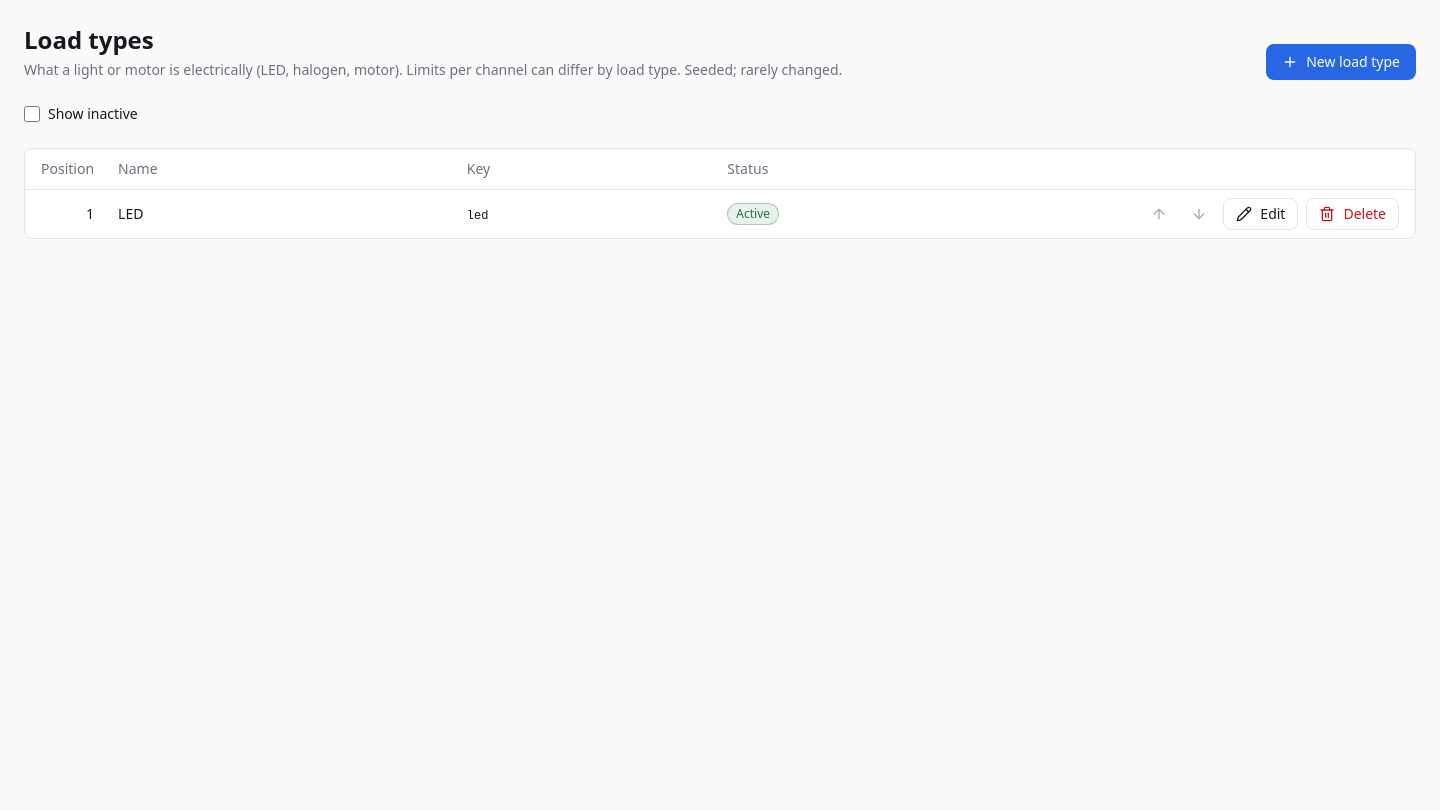
LoadTypesPage › creates a load type
This screenshot has width=1440, height=810.
Click the button "New load type" at x=1341, y=62, box [1266, 44, 1416, 80]
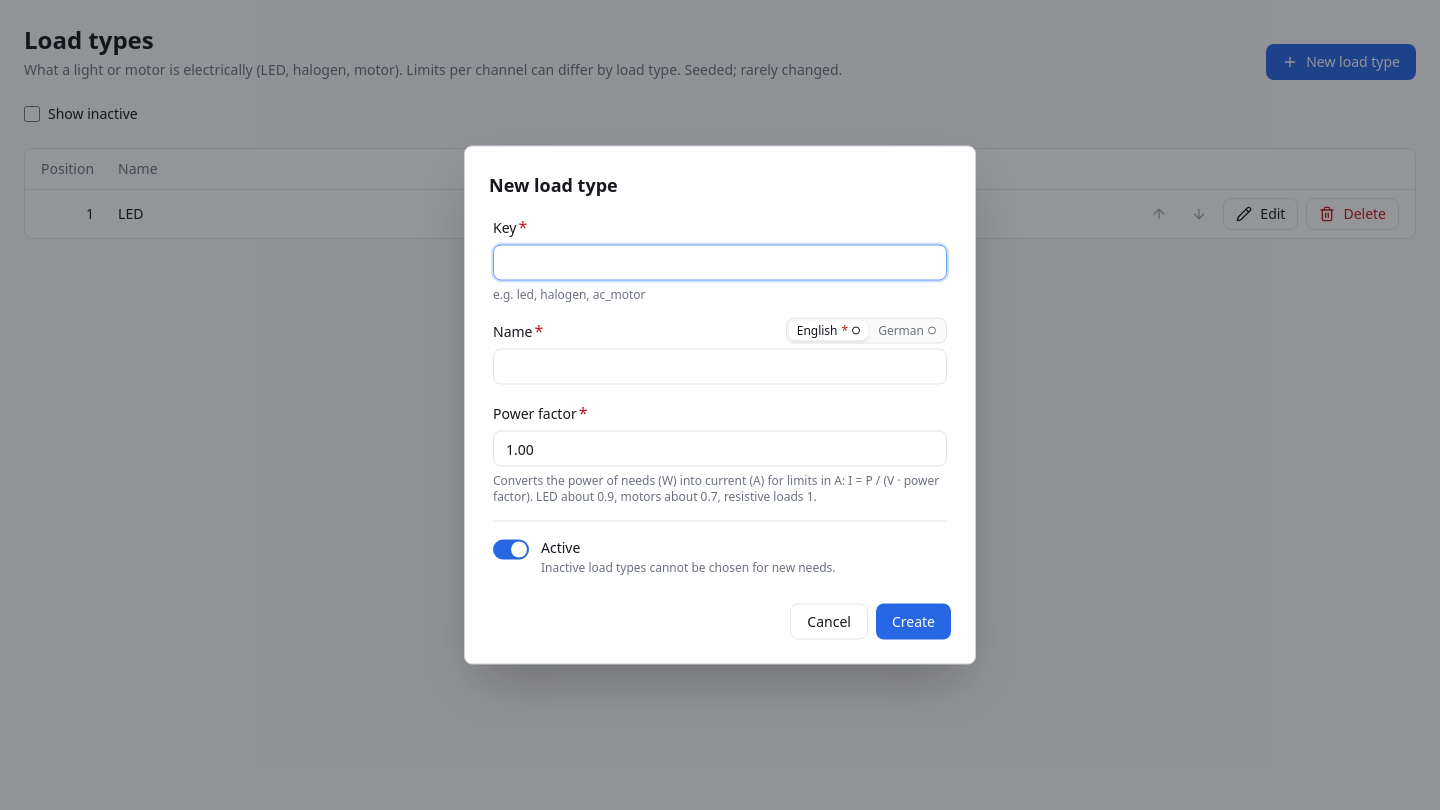
Type "motor" into the field labelled "Key" at x=720, y=262, box [493, 244, 947, 280]
Type "Motor" into the field labelled "Name" at x=720, y=366, box [493, 348, 947, 384]
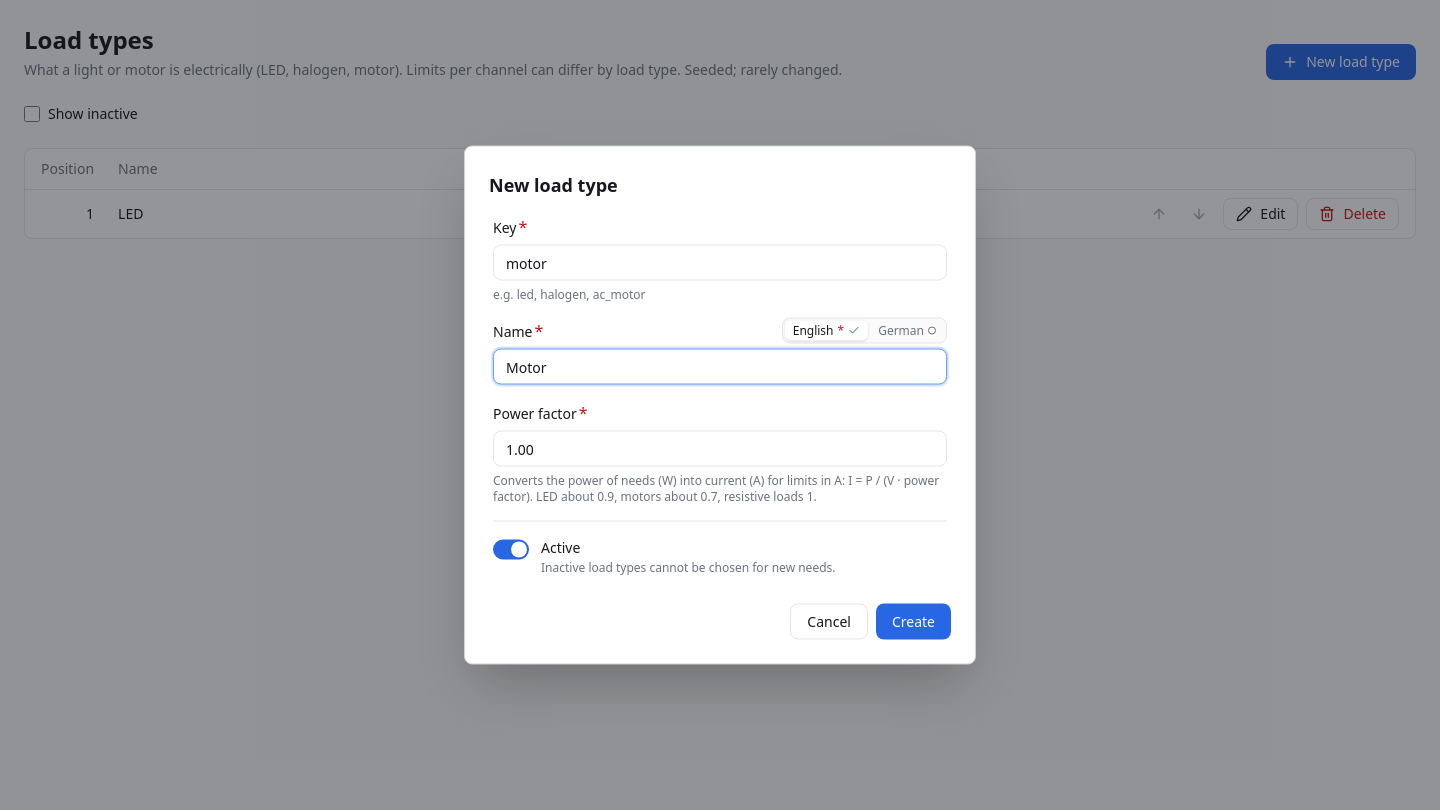
Expected: the field labelled "Power factor" holds "1.00"
Replace the text in the field labelled "Power factor" with "1.5" at x=720, y=448, box [493, 430, 947, 466]
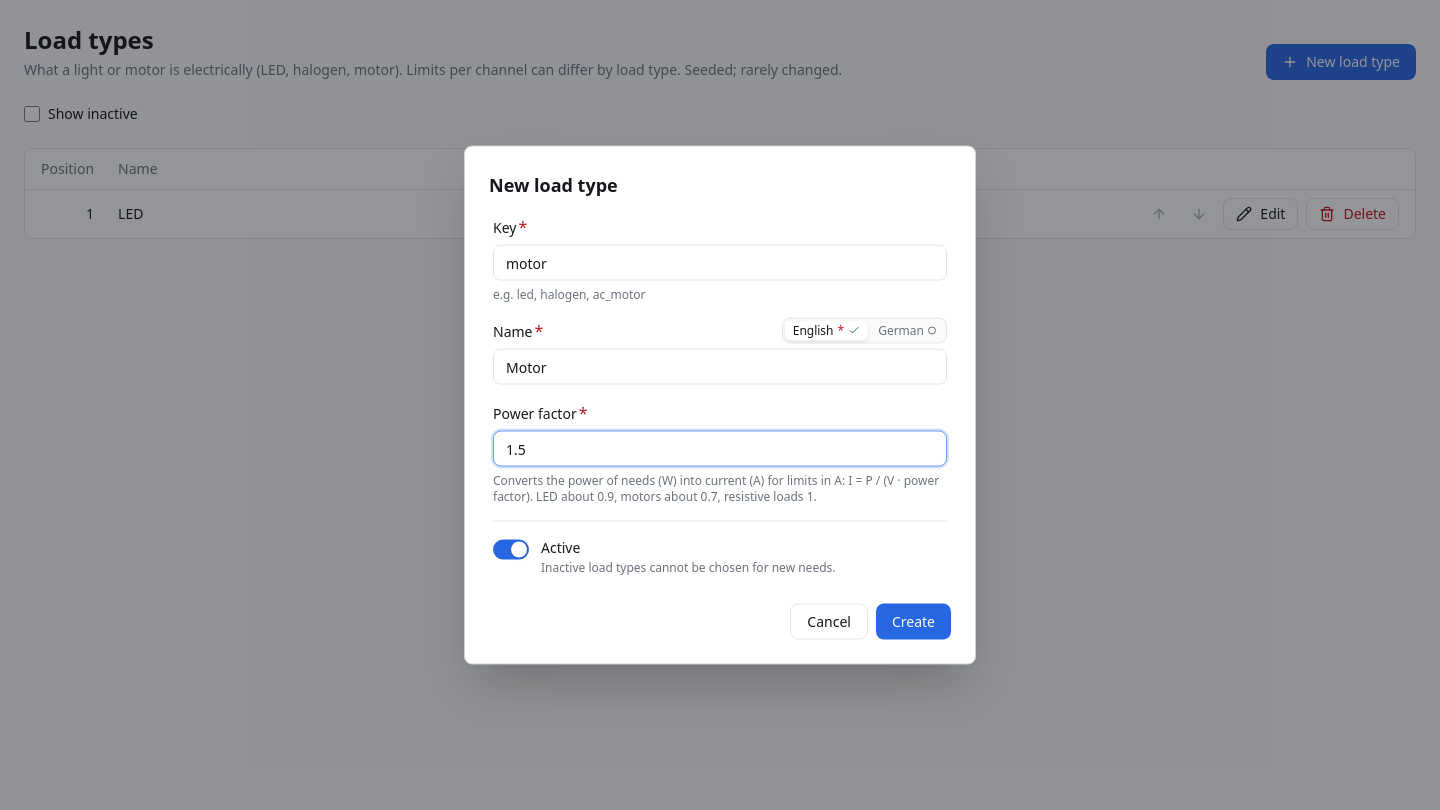
Click the button "Create" at x=913, y=622, box [876, 604, 951, 640]
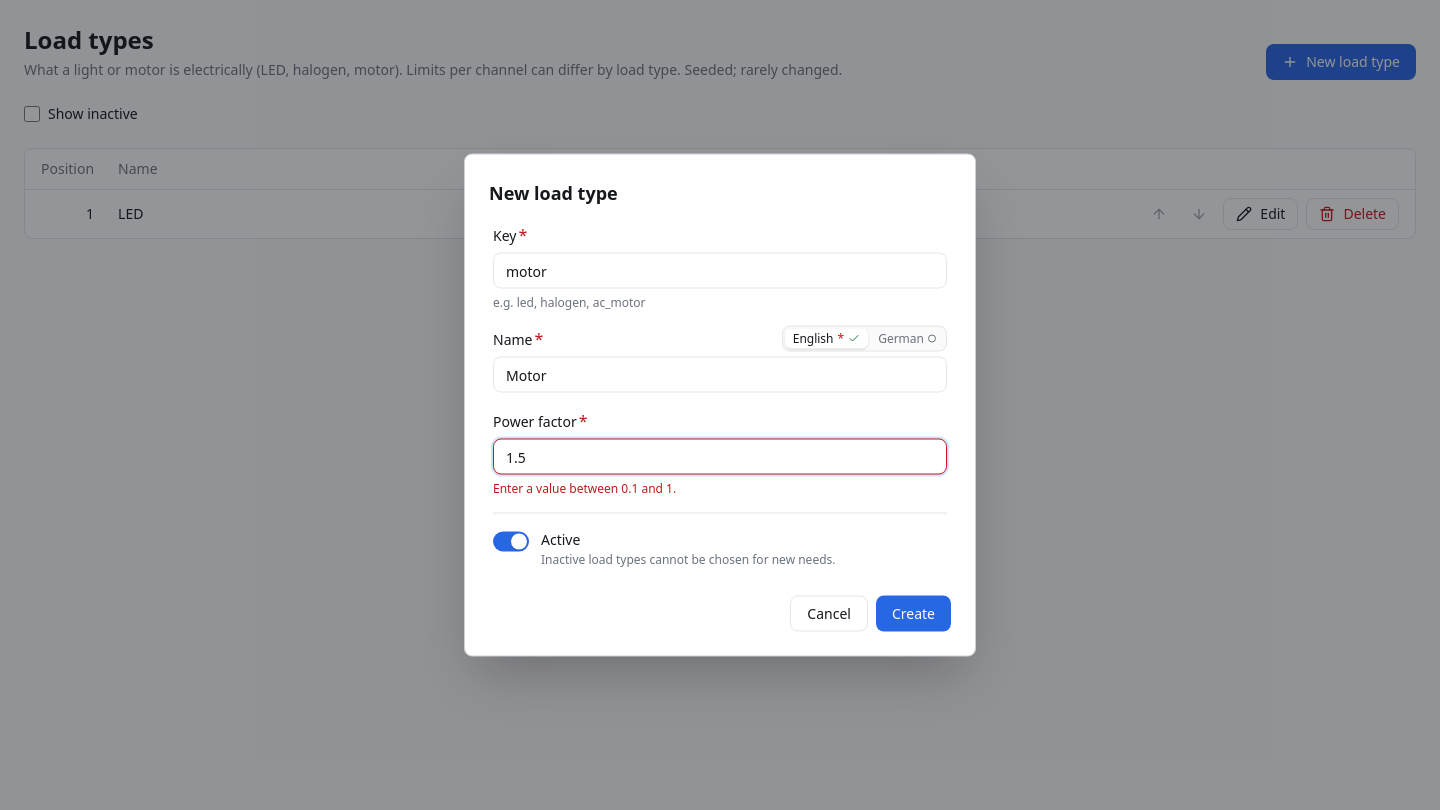
Expected: the text "Enter a value between 0.1 and 1." is shown, [493, 480, 676, 496]
Replace the text in the field labelled "Power factor" with "0,7" at x=720, y=456, box [493, 438, 947, 474]
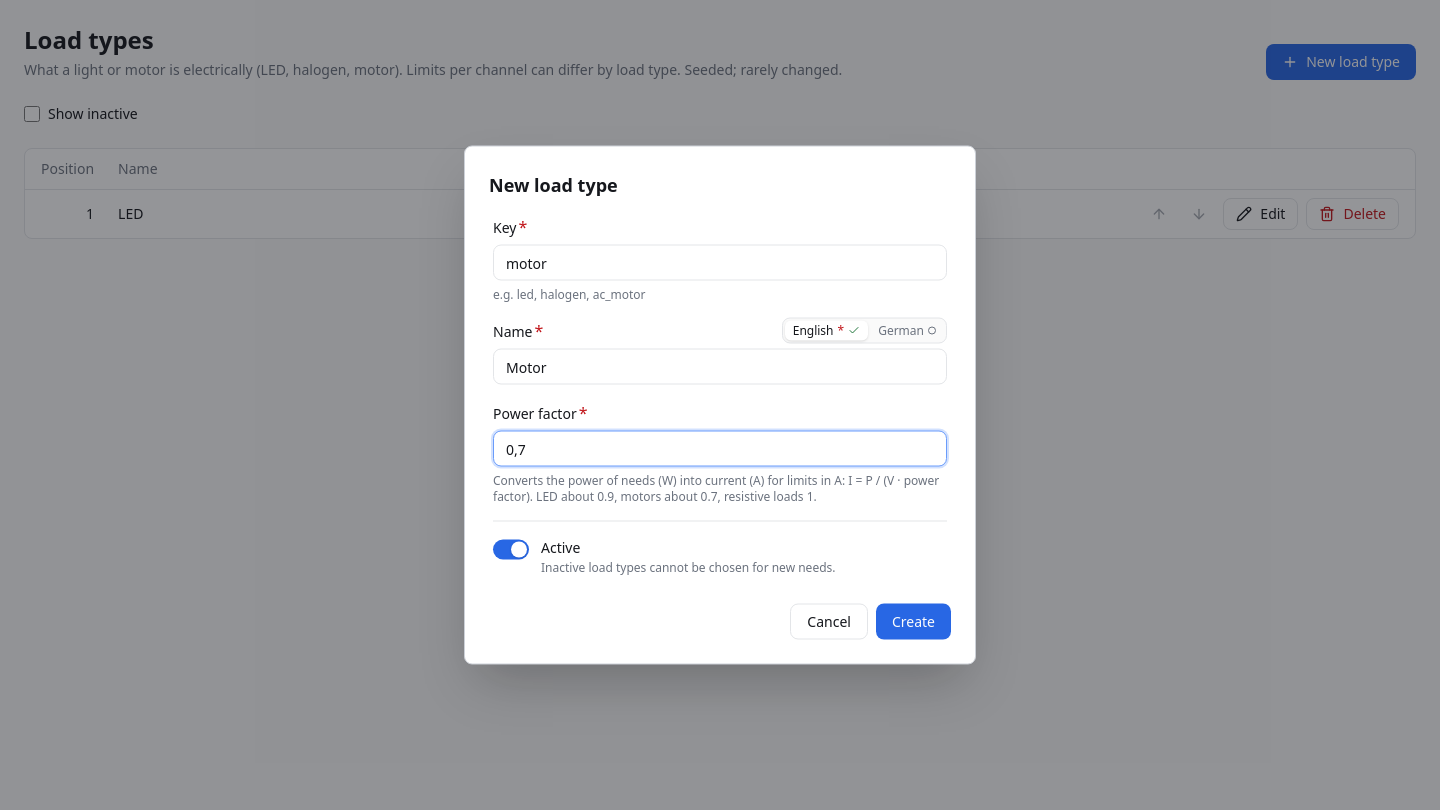
Click the button "Create" at x=913, y=622, box [876, 604, 951, 640]
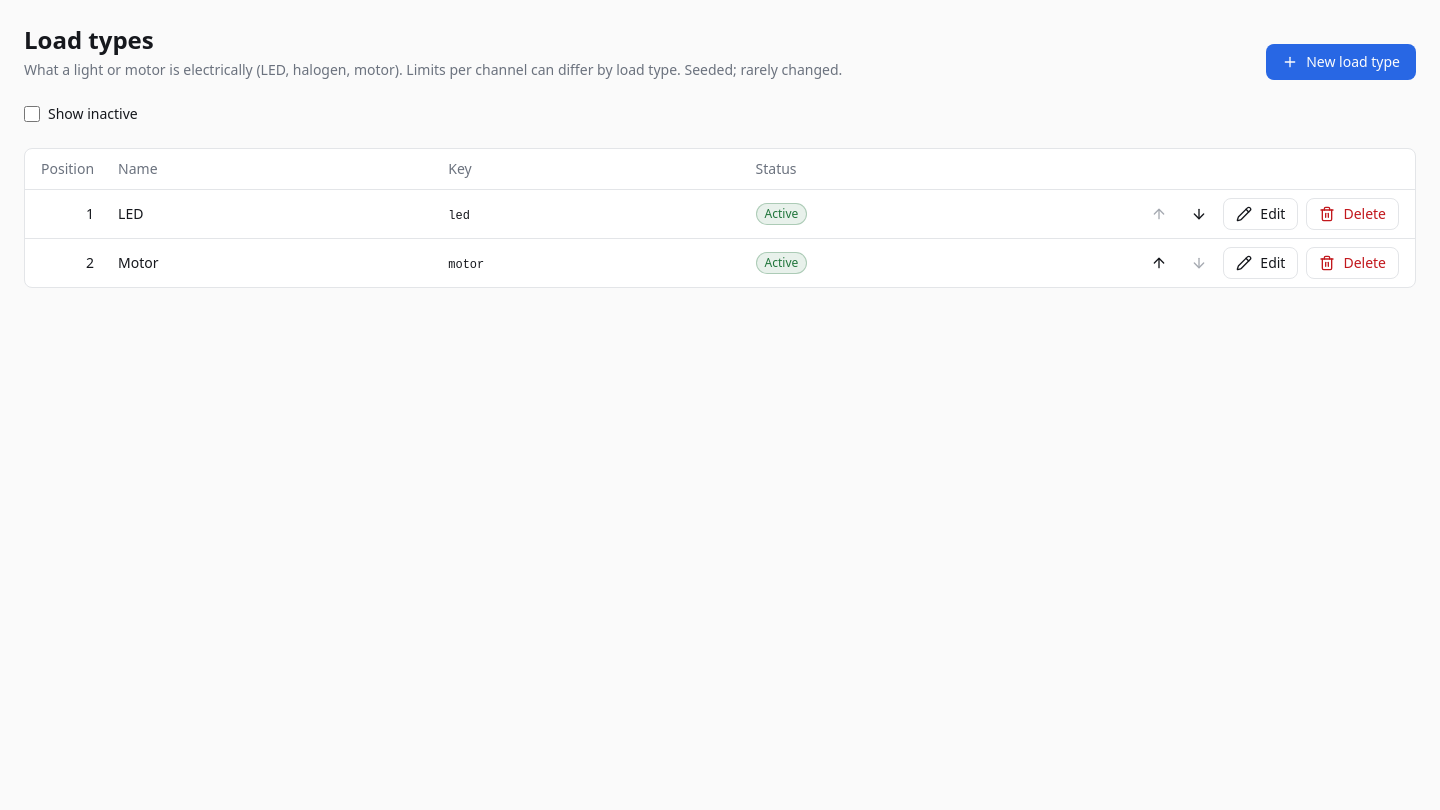
Expected: the text "Motor" is shown, [106, 238, 436, 287]
Expected: the dialog is gone
